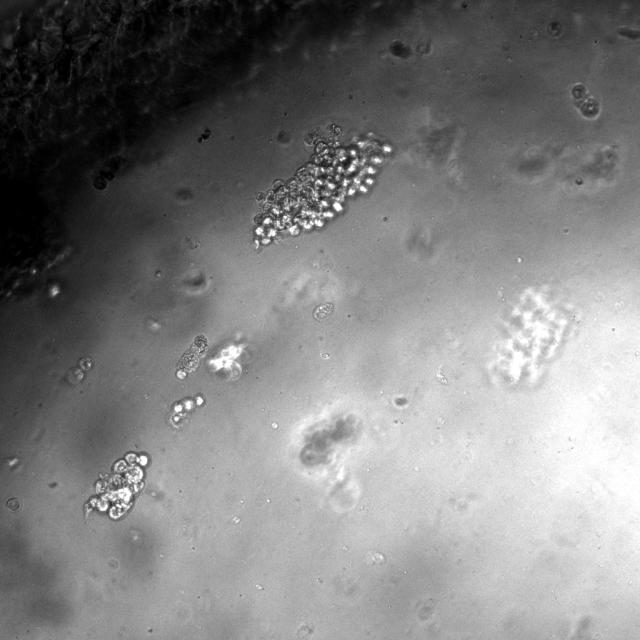organoid: (252, 123, 395, 253), (488, 287, 574, 386), (83, 451, 149, 521), (299, 414, 358, 466), (168, 393, 206, 431), (206, 343, 246, 379), (176, 335, 208, 379), (92, 155, 123, 191), (571, 83, 599, 118), (67, 356, 92, 383), (389, 40, 411, 59), (312, 302, 333, 321), (547, 19, 565, 38), (618, 26, 639, 40), (197, 128, 212, 144), (6, 497, 21, 512), (185, 236, 200, 249)
